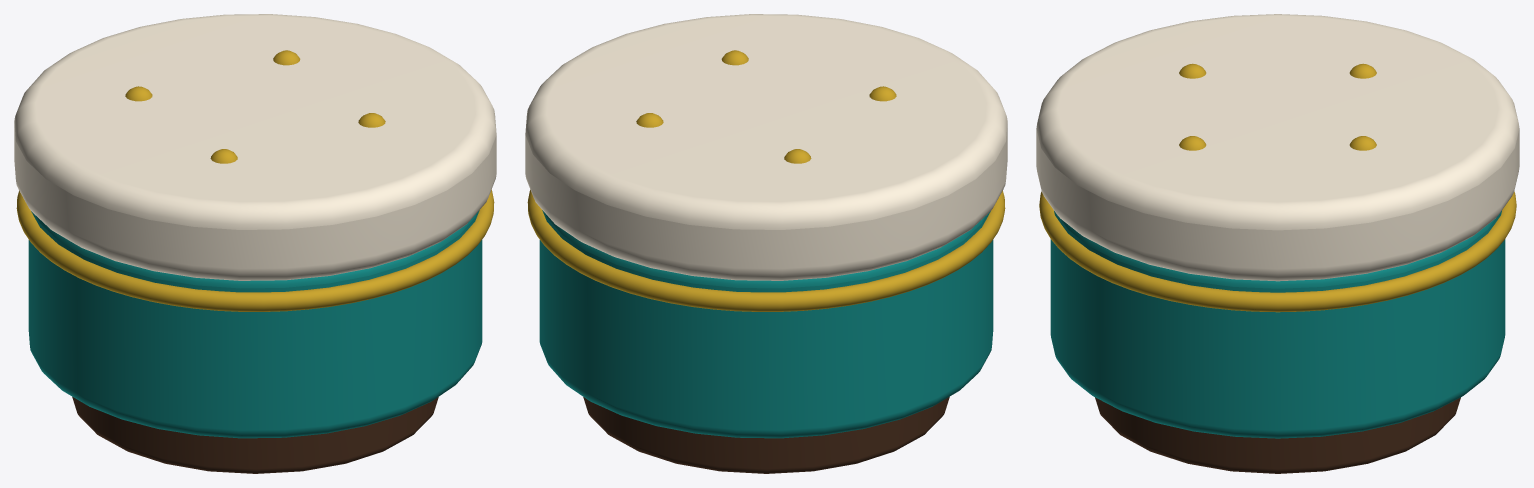
Rendered from lobby-ottoman.glb.
The picture shows the model from 3 angles, left to right: view 1: azimuth 30°, elevation 25°; view 2: azimuth 150°, elevation 25°; view 3: azimuth 270°, elevation 25°; orthographic projection.
Visible parts, largest first — view 1: cushion, drum, base, drum.band; view 2: cushion, drum, base, drum.band; view 3: cushion, drum, base, drum.band.
Part boxes in pixels (left/top/right/bottom): cushion: left=14, top=14, right=496, bottom=280; drum: left=28, top=210, right=482, bottom=438; base: left=72, top=397, right=438, bottom=473; drum.band: left=16, top=189, right=494, bottom=311; cushion: left=525, top=14, right=1007, bottom=280; drum: left=539, top=210, right=993, bottom=438; base: left=583, top=397, right=949, bottom=473; drum.band: left=527, top=189, right=1005, bottom=311; cushion: left=1036, top=14, right=1519, bottom=281; drum: left=1050, top=211, right=1505, bottom=438; base: left=1095, top=397, right=1460, bottom=473; drum.band: left=1039, top=191, right=1516, bottom=312.
Size of the model in its own units: 0.68 by 0.462 by 0.68.
